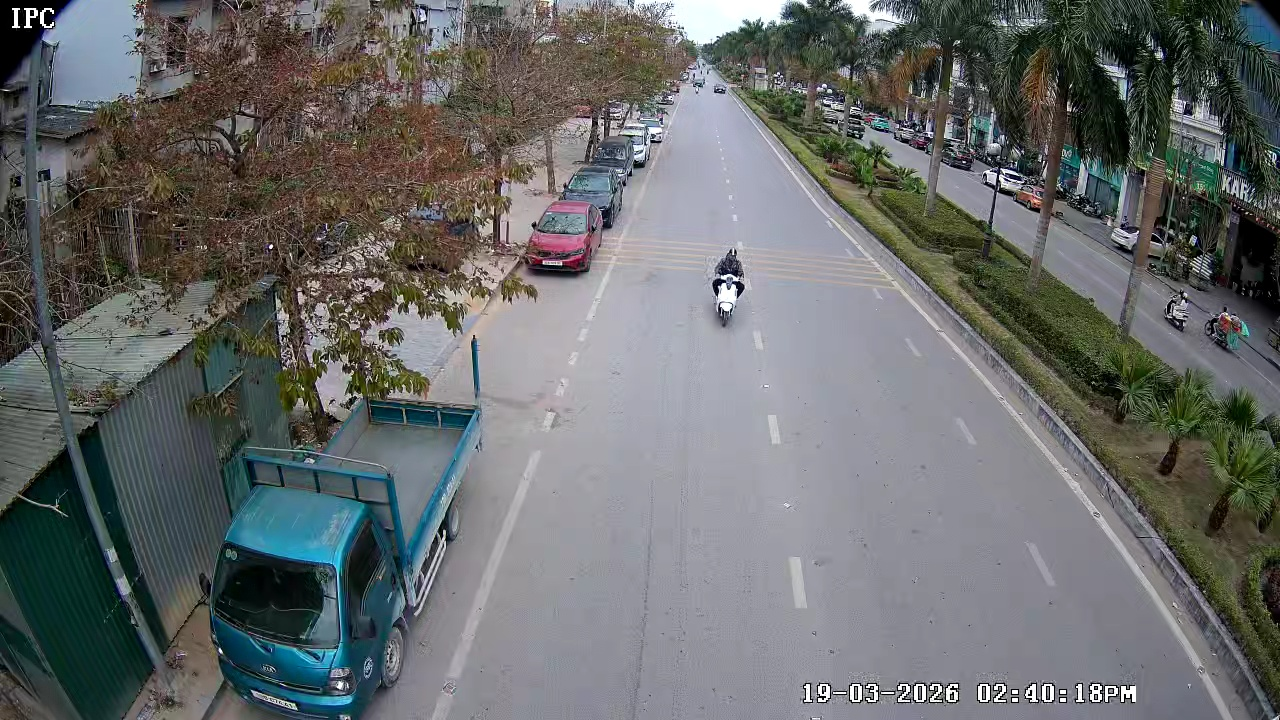car: (526, 199, 598, 277)
motorbike: (707, 244, 749, 326)
